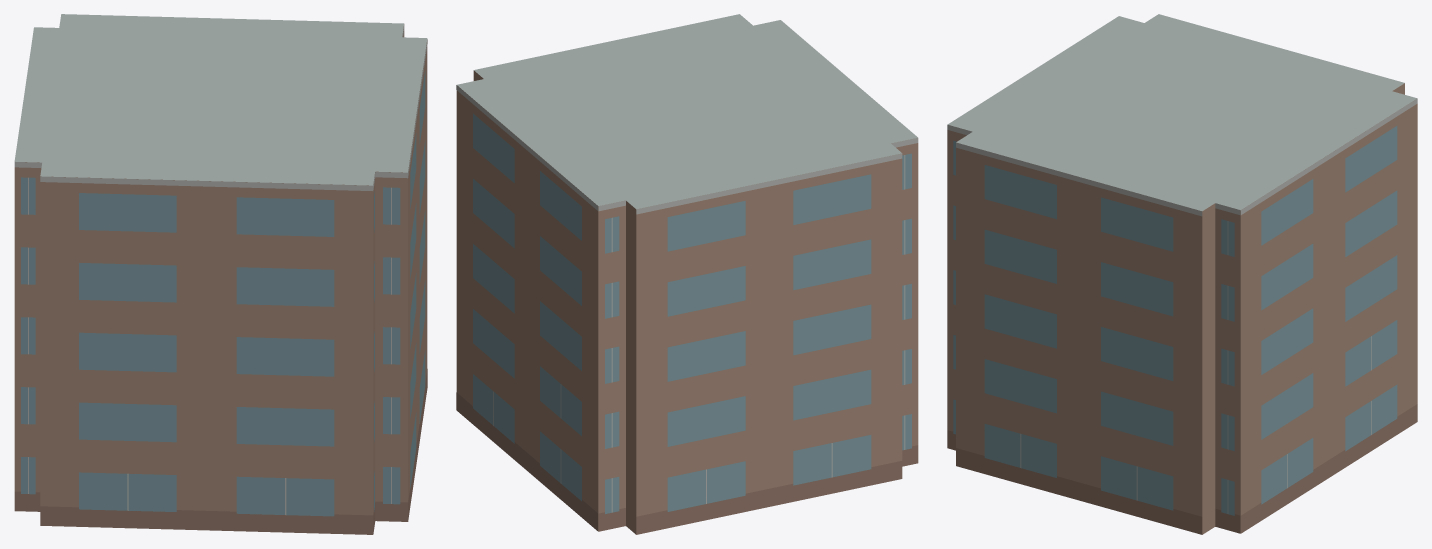
Rendered from survey-upis-33004265.glb.
The picture shows the model from 3 angles, left to right: view 1: azimuth 30°, elevation 25°; view 2: azimuth 150°, elevation 25°; view 3: azimuth 270°, elevation 25°; orthographic projection. The views are drawn at different scales.
Visible parts, largest first — view 1: survey-upis-33004265.tmp; view 2: survey-upis-33004265.tmp; view 3: survey-upis-33004265.tmp.
Part boxes in pixels (x1,y1,x2,y2): survey-upis-33004265.tmp: [14, 14, 427, 534]; survey-upis-33004265.tmp: [456, 14, 918, 534]; survey-upis-33004265.tmp: [947, 14, 1417, 534].
Size of the model in its own units: 19.95 by 15.25 by 20.09.
